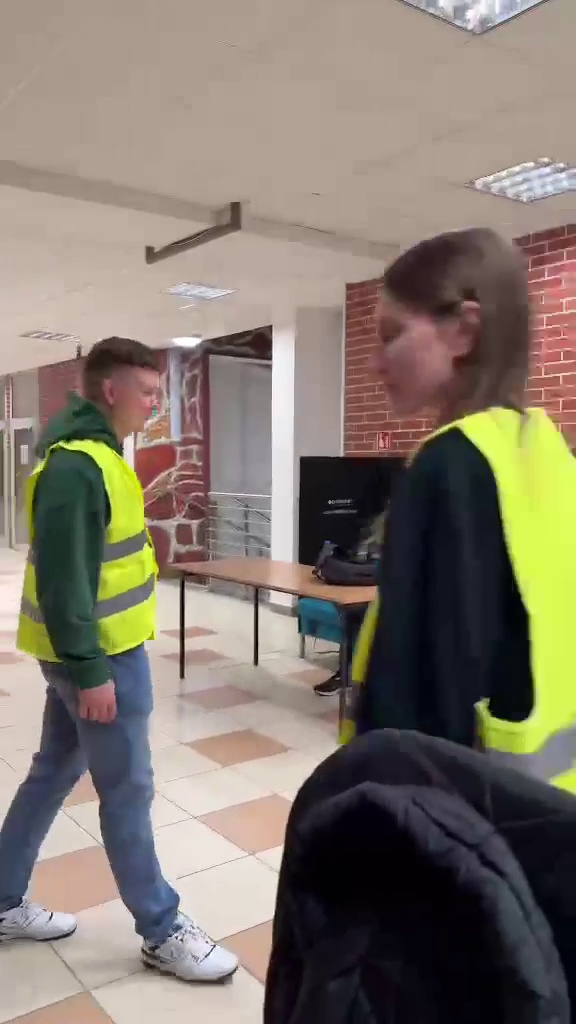vest: (10, 333, 234, 974), (351, 222, 576, 770)
